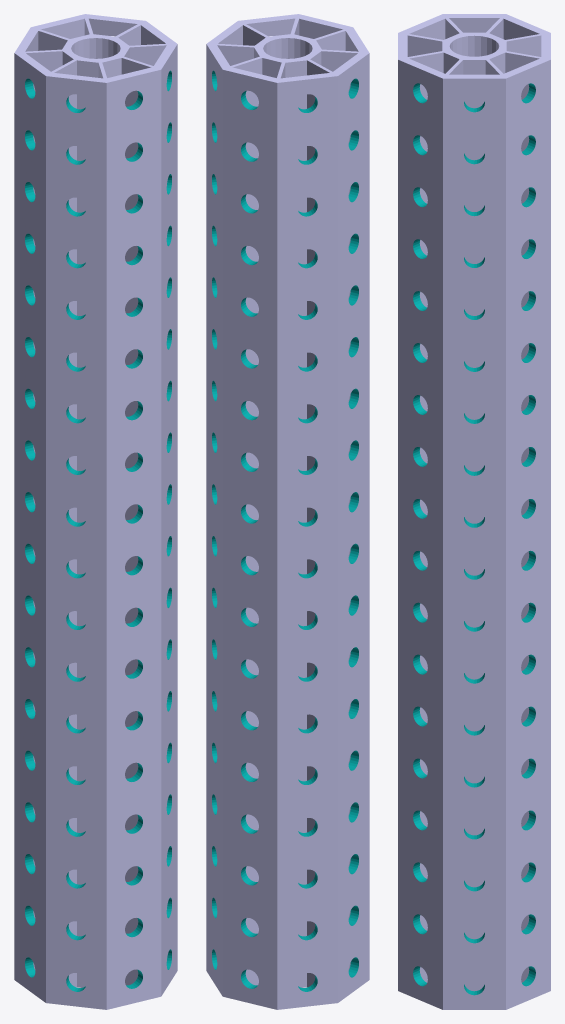
The model's file is World_sticktool_sticktool__2_30D_355619_________0456_________K00_EGT001_8KT_PROFIL_SW80_538__2_30D_355619_________0456_________K00_EGT001_8KT_PROFIL_SW80_538.obj.
3 renders of one model, left to right at view 1: azimuth 30°, elevation 25°; view 2: azimuth 150°, elevation 25°; view 3: azimuth 270°, elevation 25°, orthographic.
Size of the model in its own units: 0.08 by 0.538 by 0.08.
